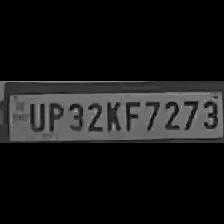2: (84, 98, 104, 132), (160, 97, 180, 131)
3: (199, 96, 219, 130), (64, 99, 84, 131)
7: (140, 98, 160, 132), (178, 96, 198, 130)
F: (121, 98, 141, 132)
K: (102, 98, 122, 132)
P: (44, 98, 64, 132)
U: (23, 98, 45, 132)
